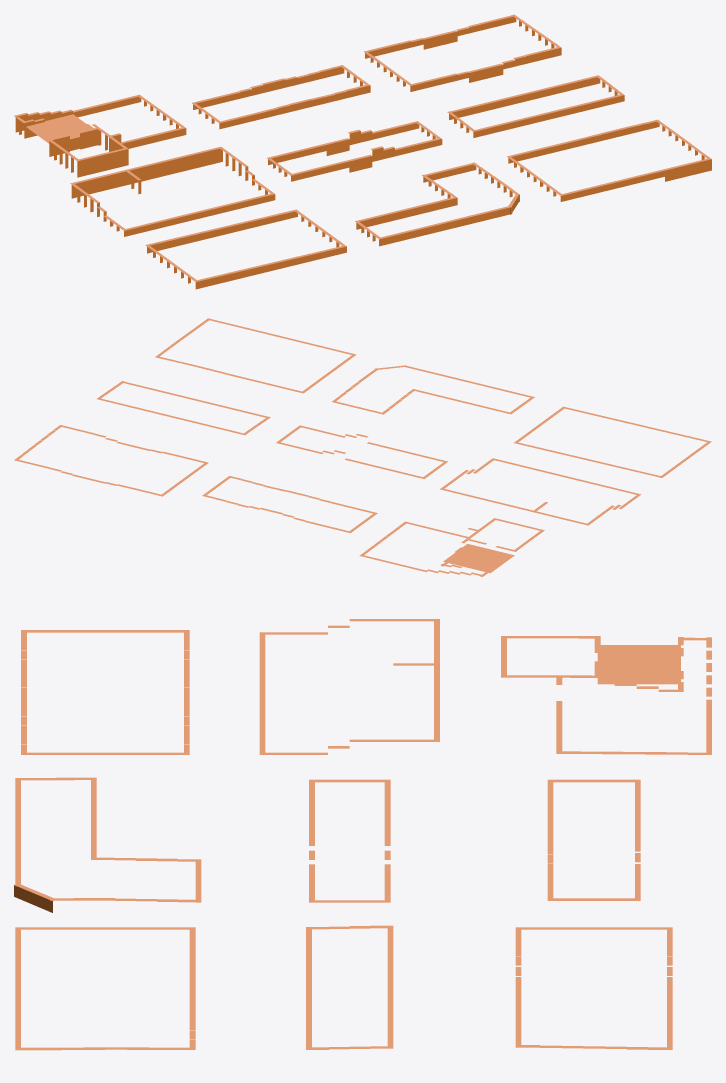
Rendered from borders.glb.
3 renders of one model, top to bottom at view 1: azimuth 30°, elevation 25°; view 2: azimuth 150°, elevation 25°; view 3: azimuth 270°, elevation 25°, orthographic. The views are drawn at different scales.
Visible parts, largest first — view 1: Borders; view 2: Borders; view 3: Borders.
Boxes of the visible parts, bbox=[...] form: Borders: bbox=[14, 14, 711, 289]; Borders: bbox=[14, 318, 711, 576]; Borders: bbox=[14, 619, 711, 1050].
Size of the model in its own units: 34 by 1.36 by 23.99.
